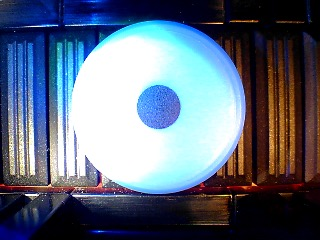BOHO: (70, 20, 246, 194)
